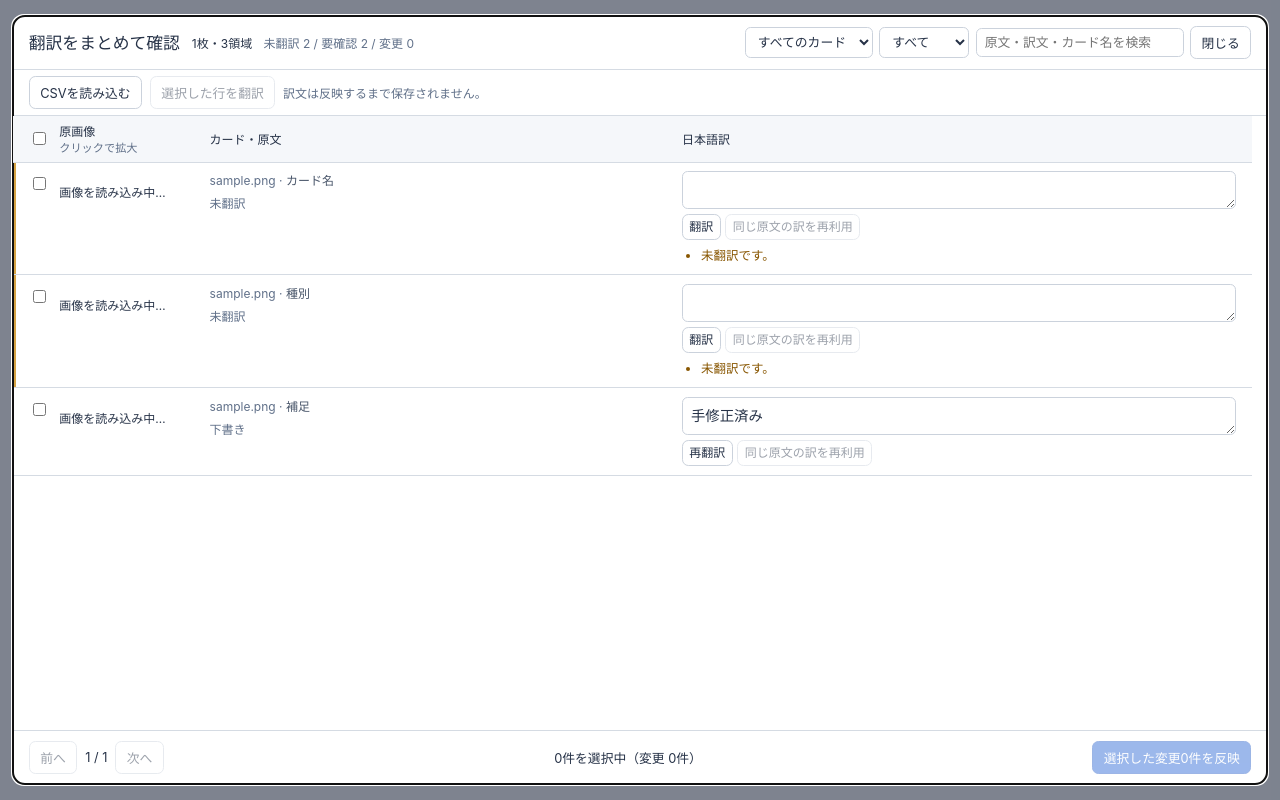
Test: retains the existing draft after individual translation cancel
Click the button "再翻訳" at (707, 453), box [682, 440, 733, 466]
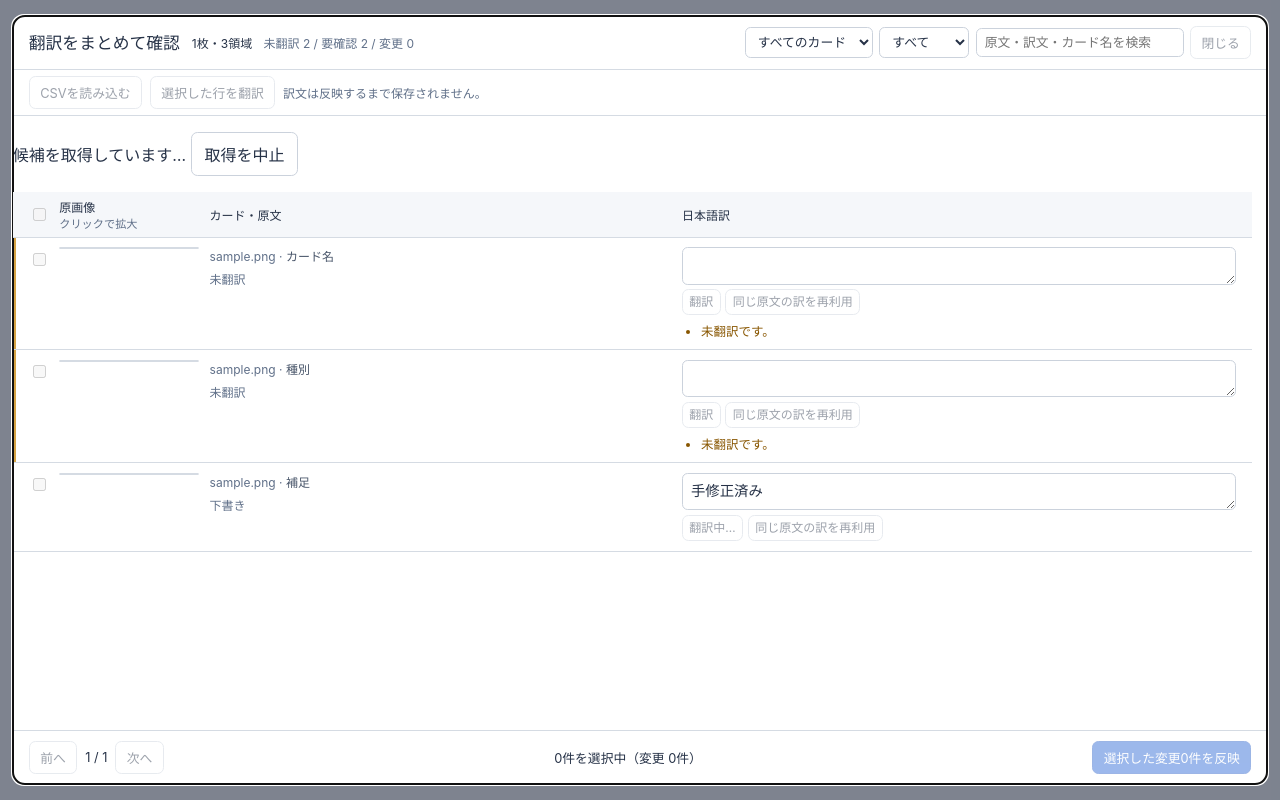
Click the button "取得を中止" at (244, 154), box [191, 132, 298, 176]
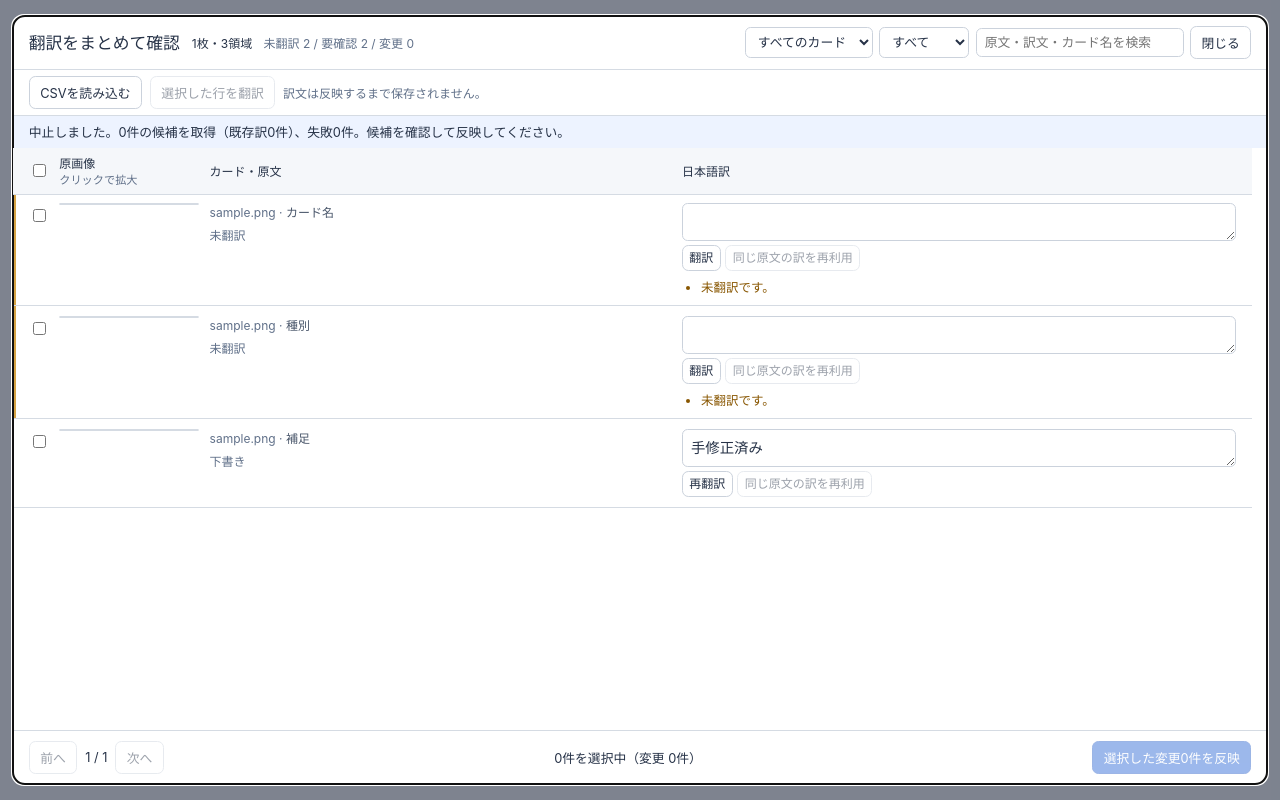
Expected: the text box in the row of "補足" holds "手修正済み", [682, 429, 1236, 467]
Result: the button "再翻訳" is enabled at [682, 471, 733, 497]
